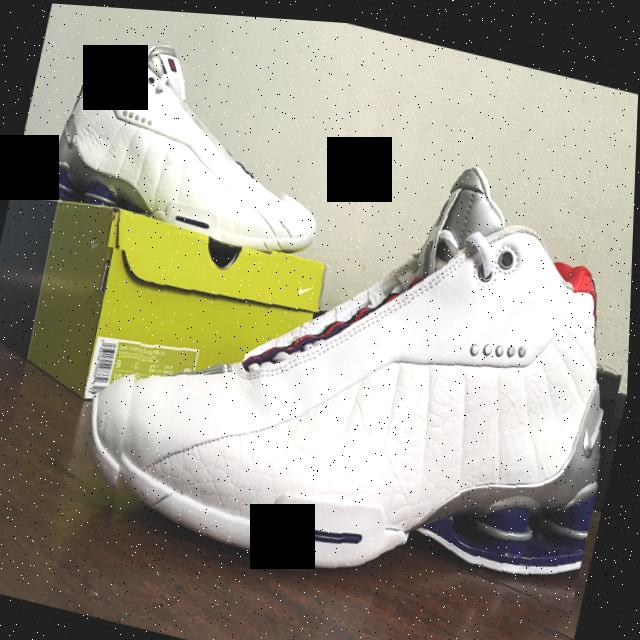shoe: (87, 30, 639, 640), (55, 3, 327, 284)
